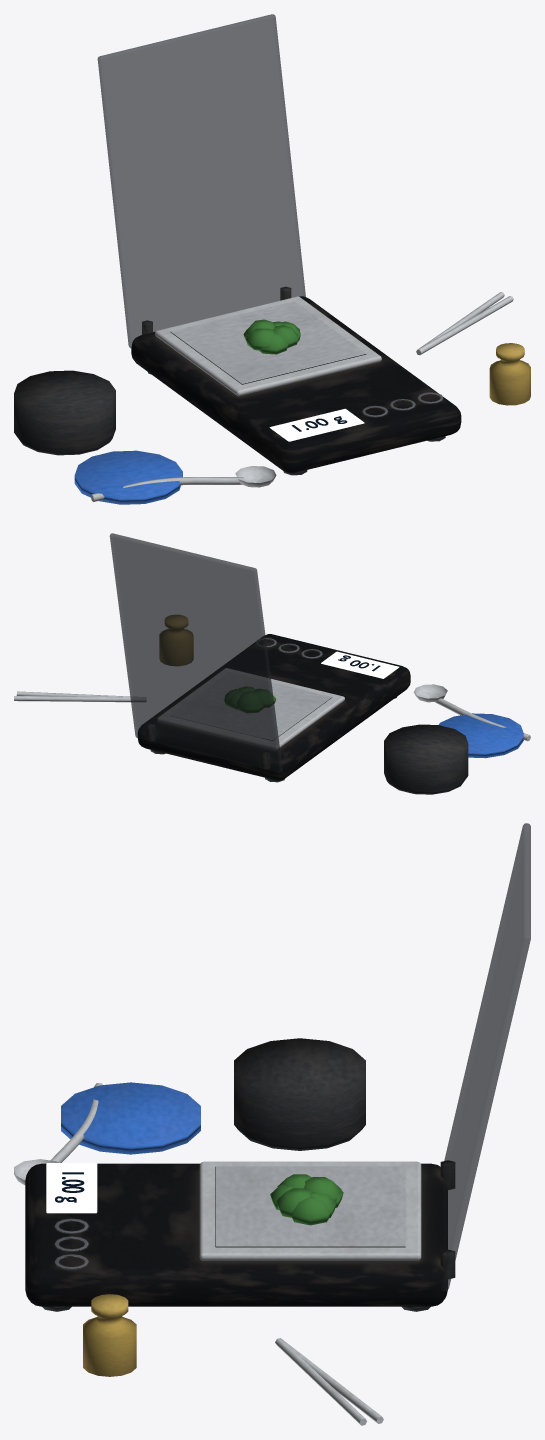
Rendered from waga_jubilerska.glb.
The picture shows the model from 3 angles, top to bottom: view 1: azimuth 30°, elevation 25°; view 2: azimuth 150°, elevation 25°; view 3: azimuth 270°, elevation 25°; orthographic projection. The views are drawn at different scales.
Visible parts, largest first — view 1: Klapka, Waga, Porcja, Wyswietlacz; view 2: Waga, Klapka, Porcja, Wyswietlacz; view 3: Waga, Klapka, Porcja, Wyswietlacz.
Part boxes in pixels (x1=…): Klapka: x1=97, y1=14, x2=305, y2=348; Waga: x1=14, y1=286, x2=530, y2=504; Porcja: x1=243, y1=319, x2=300, y2=354; Wyswietlacz: x1=269, y1=408, x2=364, y2=441; Waga: x1=14, y1=615, x2=530, y2=794; Klapka: x1=109, y1=533, x2=282, y2=772; Porcja: x1=224, y1=686, x2=276, y2=712; Wyswietlacz: x1=321, y1=651, x2=399, y2=678; Waga: x1=14, y1=1038, x2=455, y2=1425; Klapka: x1=441, y1=823, x2=530, y2=1290; Porcja: x1=270, y1=1174, x2=343, y2=1225; Wyswietlacz: x1=46, y1=1163, x2=97, y2=1213.
Bounding box in the file's own units: 0.3761 × 0.199 × 0.2447.
Materials: 5 (1 with a texture image).
